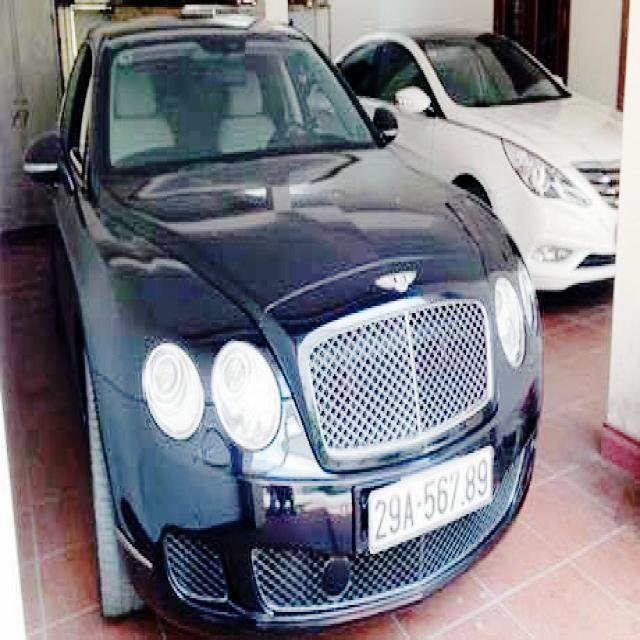license_plate: (371, 446, 492, 555)
